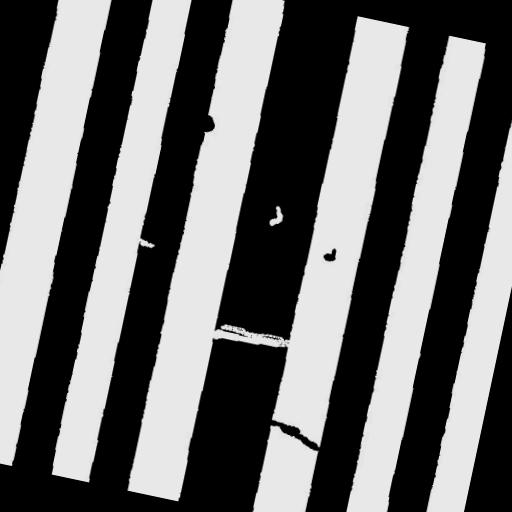copper: (313, 236, 345, 270)
mousebite: (123, 226, 164, 256)
open: (202, 312, 300, 363)
pin-hole: (259, 195, 293, 236)
short: (255, 410, 334, 460)
spur: (186, 104, 224, 142)
